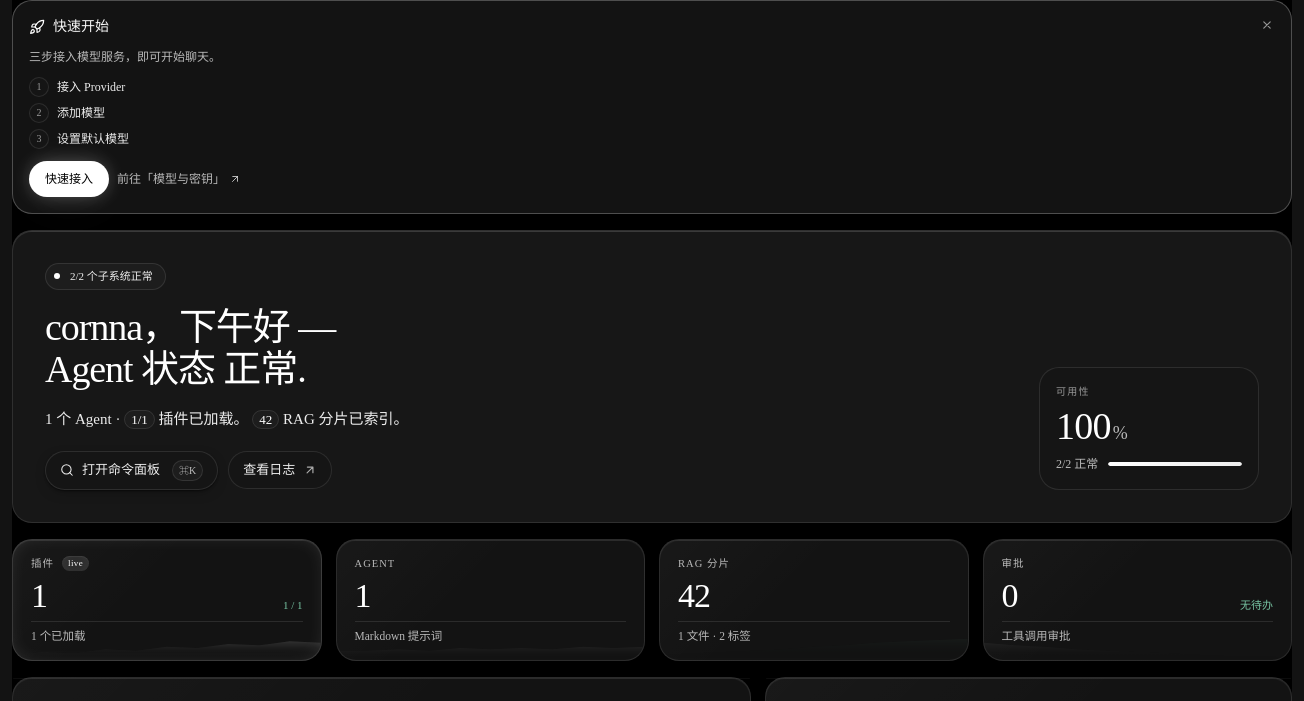
Test: DashboardPage › dismiss button hides the card and persists the choice
The width and height of the screenshot is (1304, 701).
Expected: the element with test id "getting-started-card" is shown, [12,0,1292,214]
Click the button with test id "getting-started-dismiss" at (1267, 25), box [1255,13,1279,37]
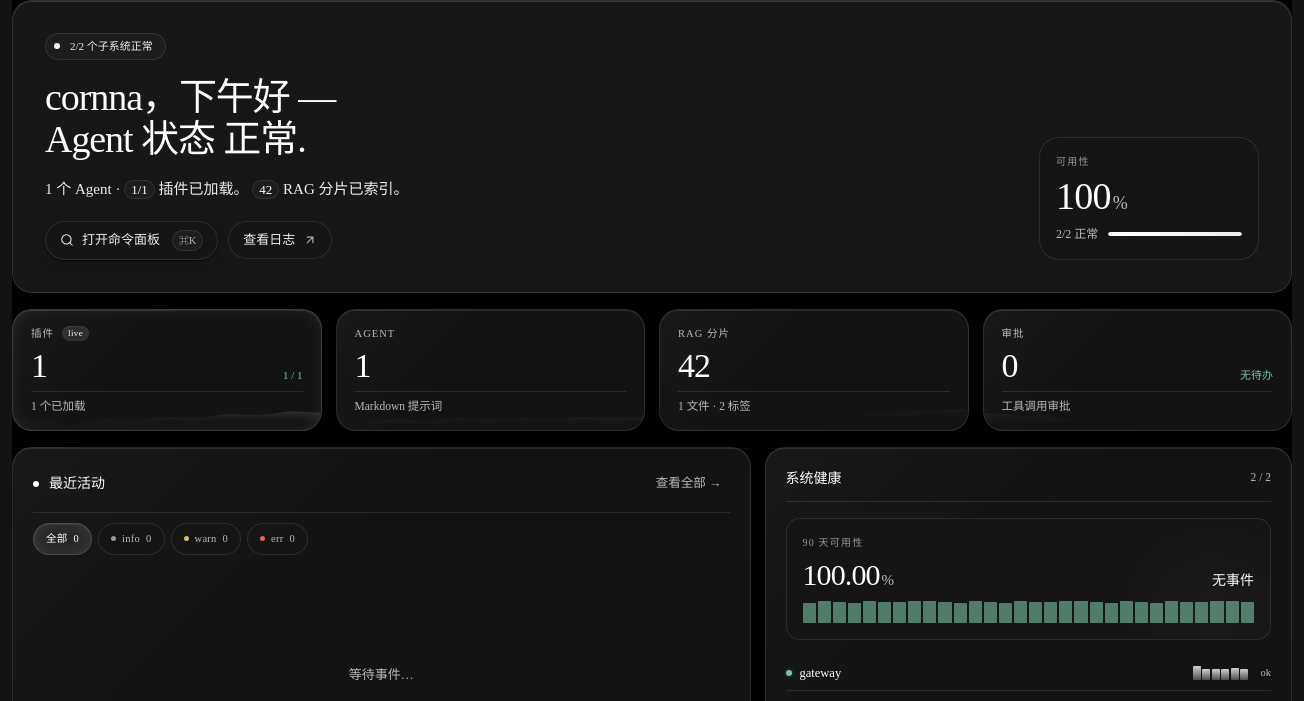
Result: the element with test id "getting-started-card" is gone
